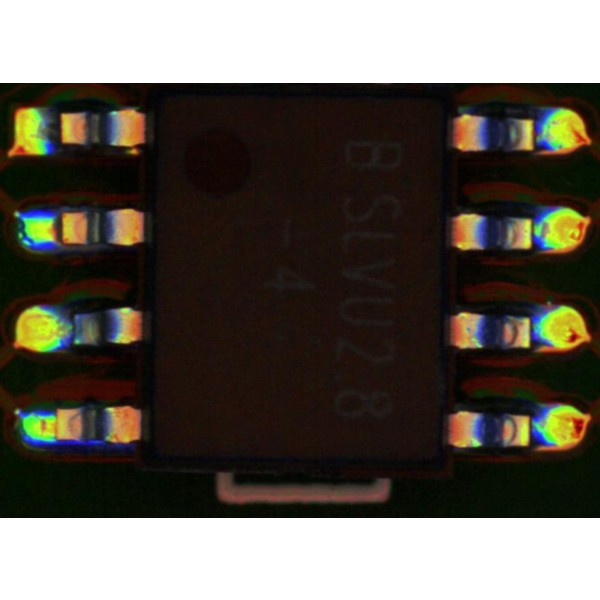Bad_podu: (47, 216, 71, 242), (37, 420, 76, 435)
